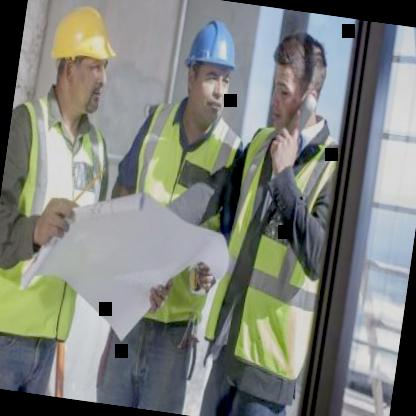head: (259, 22, 334, 141)
helmet: (170, 6, 249, 134), (42, 0, 122, 120)
